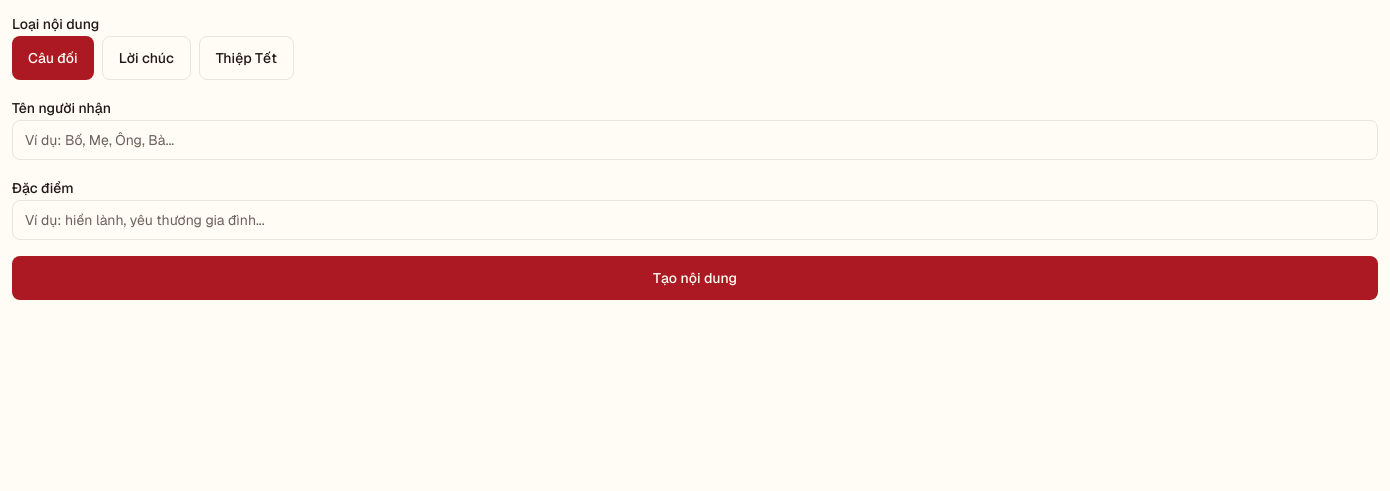
Test: AIContentForm Unit Tests › Success Flow › should show retry button after successful generation
Type "Bố" into the field labelled "Tên người nhận". click: (695, 140)
box: [12, 120, 1378, 160]
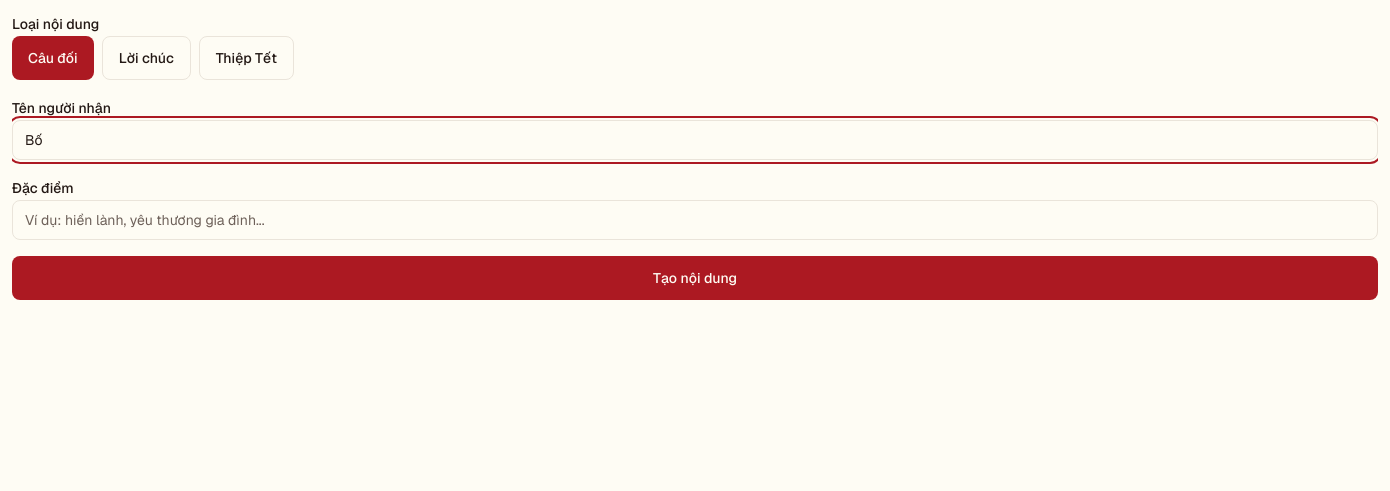
Type "hiền lành" into the field labelled "Đặc điểm". click: (695, 220)
box: [12, 200, 1378, 240]
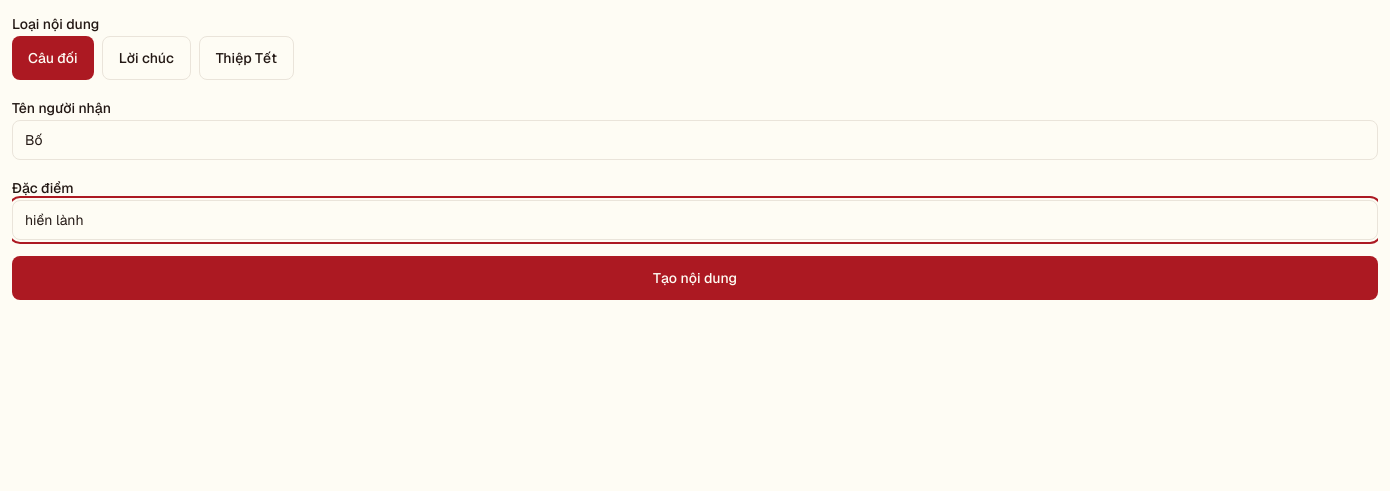
Click the button "Tạo nội dung". click: (695, 278)
box: [12, 256, 1378, 300]
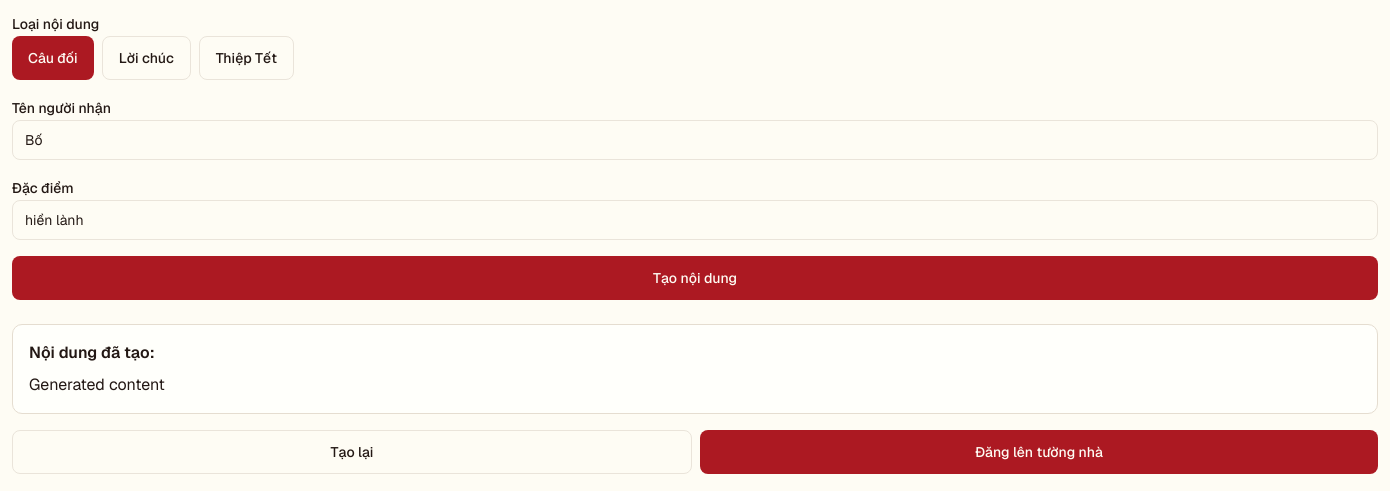
Result: the heading "Nội dung đã tạo:" is shown at [29, 342, 155, 363]
Result: the button "Tạo lại" is shown at [12, 430, 692, 474]
